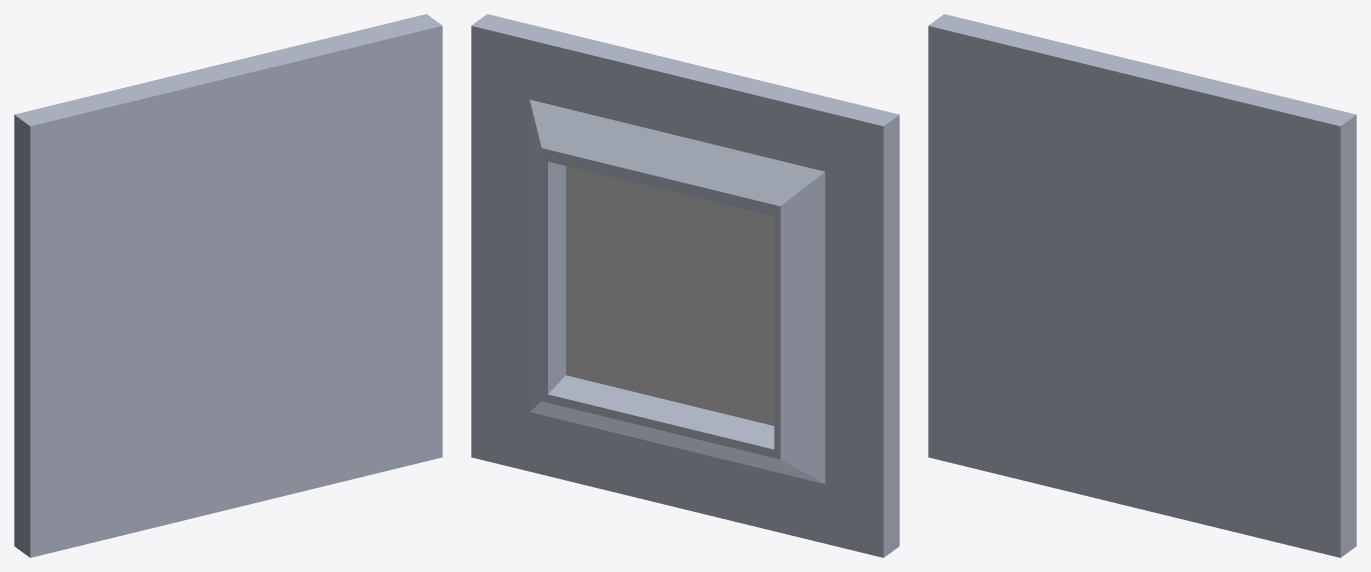
Rendered from Blank_Art.fbx.
3 renders of one model, left to right at view 1: azimuth 30°, elevation 25°; view 2: azimuth 150°, elevation 25°; view 3: azimuth 330°, elevation 25°, orthographic.
Parts seen in each view (by area): view 1: Blank; view 2: Blank, Image.011; view 3: Blank.
Boxes of the visible parts, x1,y1,x2,y2 form: Blank: [14, 14, 442, 557]; Blank: [471, 14, 899, 557]; Image.011: [566, 166, 774, 425]; Blank: [928, 14, 1356, 557].
Bounding box in the file's own units: 963 × 963 × 131.
2 materials, 1 textured.
